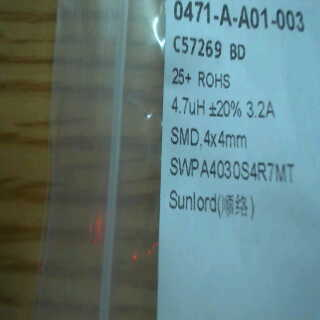4.7uH: (163, 93, 208, 118)
